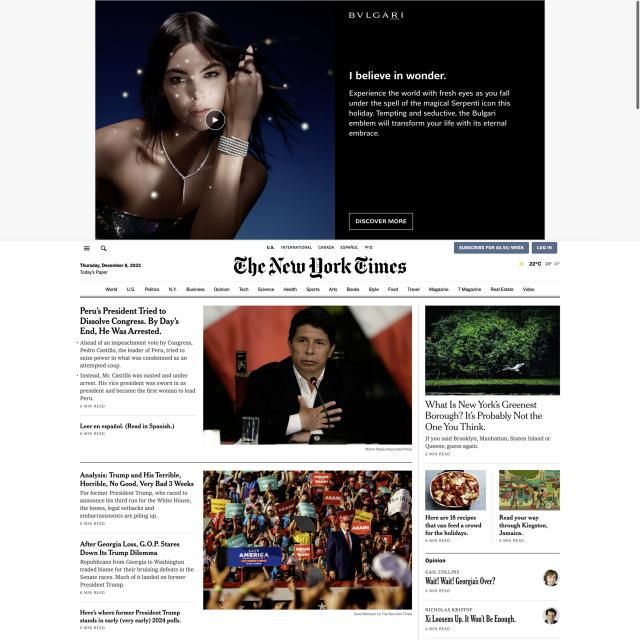logo: (232, 255, 408, 280)
navigation: (102, 284, 540, 295), (265, 244, 375, 252), (84, 246, 90, 251)
